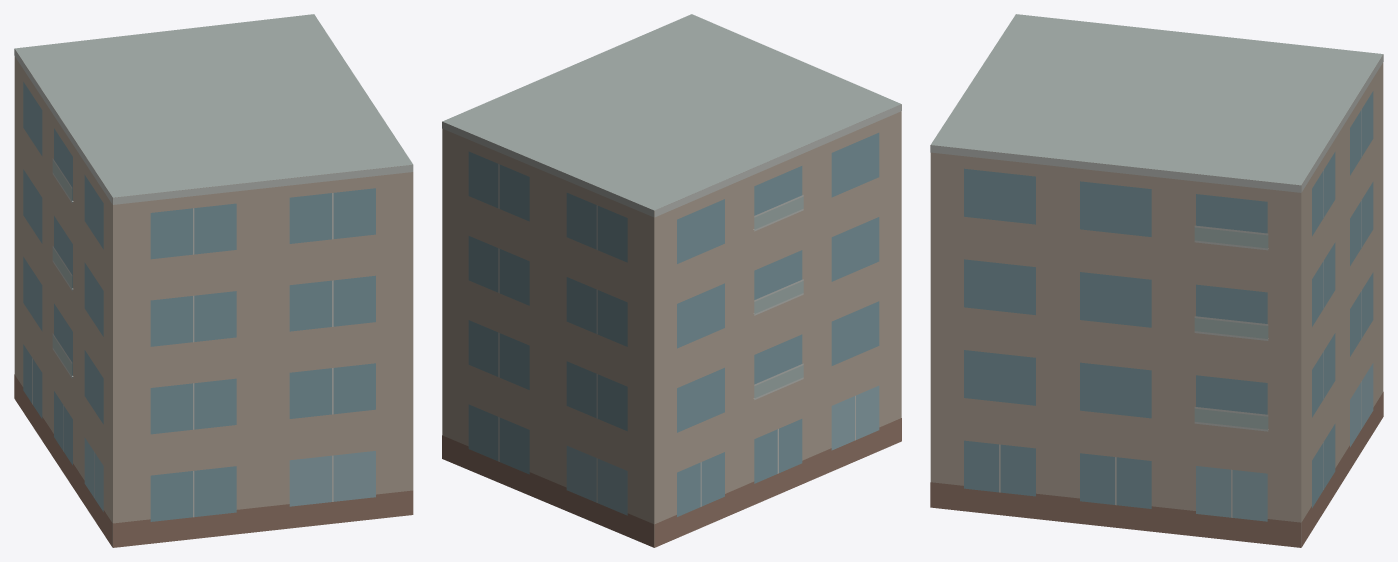
File: survey-upis-32879732.glb
3 renders of one model, left to right at view 1: azimuth 30°, elevation 25°; view 2: azimuth 150°, elevation 25°; view 3: azimuth 270°, elevation 25°, orthographic. The views are drawn at different scales.
Visible parts, largest first — view 1: survey-upis-32879732.tmp; view 2: survey-upis-32879732.tmp; view 3: survey-upis-32879732.tmp.
Boxes of the visible parts, x1=… form: survey-upis-32879732.tmp: x1=14, y1=14, x2=413, y2=547; survey-upis-32879732.tmp: x1=442, y1=14, x2=901, y2=547; survey-upis-32879732.tmp: x1=930, y1=14, x2=1383, y2=547.
Size of the model in its own units: 11.92 by 11.75 by 13.32.
